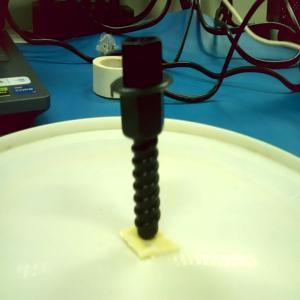parafuso: (111, 37, 173, 242), (112, 37, 172, 241)
